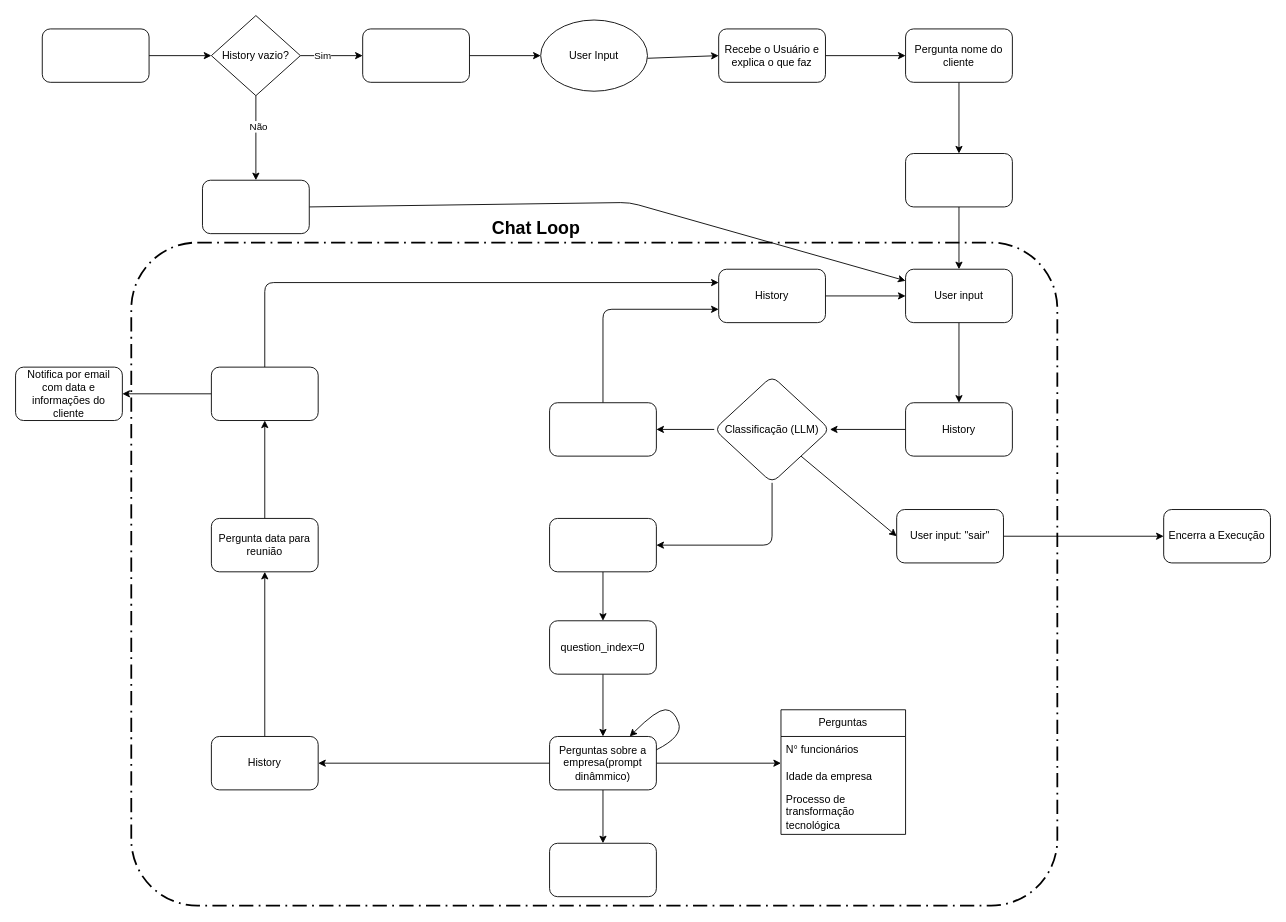
This 1286x922 diagram has some shape labels left out. The shapes that lost their labels are listed below. From the top down, each one's centre as x and y in pixels, then its label:
At (x=95, y=55): "MongoDB History".
At (x=415, y=55): "System Prompt".
At (x=958, y=180): "Armazena o nome".
At (x=255, y=206): "Retorna pro loop de chat com contexto anterior".
At (x=264, y=393): "API Teams".
At (x=602, y=429): "Explicação sobre a socium".
At (x=602, y=545): "Agendamento de Reunião".
At (x=602, y=869): "Armazena todos os dados em um doc".
